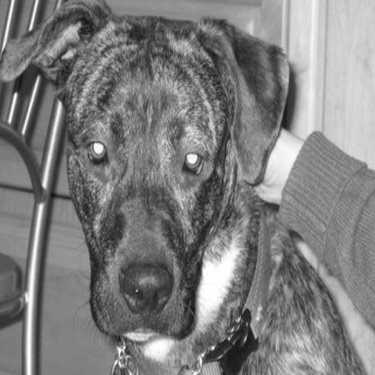dog: (1, 2, 370, 373)
